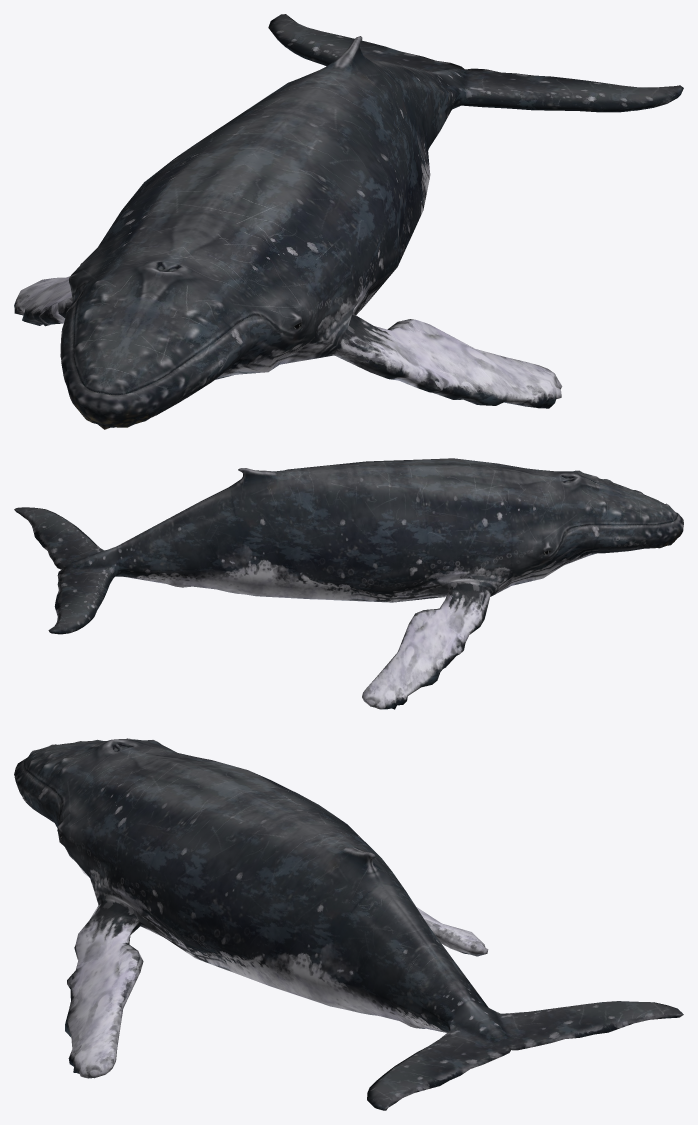
File: baleia_final.glb
3 renders of one model, top to bottom at view 1: azimuth 30°, elevation 25°; view 2: azimuth 150°, elevation 25°; view 3: azimuth 270°, elevation 25°, orthographic. The views are drawn at different scales.
Visible parts, largest first — view 1: Object_34; view 2: Object_34; view 3: Object_34.
Boxes of the visible parts, x1,y1,x2,y2 form: Object_34: (14,14,683,429); Object_34: (14,458,683,709); Object_34: (14,738,683,1110).
Size of the model in its own units: 30.16 by 9.06 by 25.55.
1 material, 1 textured.
